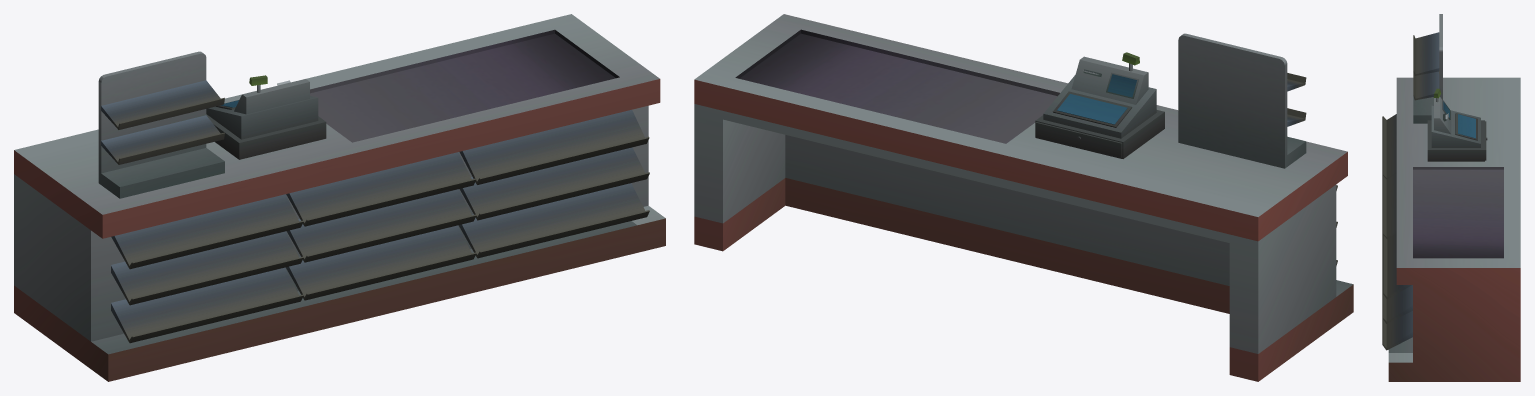
Rendered from check out point new.fbx.
3 renders of one model, left to right at view 1: azimuth 30°, elevation 25°; view 2: azimuth 150°, elevation 25°; view 3: azimuth 270°, elevation 25°, orthographic. The views are drawn at different scales.
Visible parts, largest first — view 1: polySurface104, polySurface56, polySurface106, polySurface68, polySurface50, polySurface51; view 2: polySurface104, polySurface106, polySurface68, polySurface71, polySurface70, polySurface5; view 3: polySurface104, polySurface56, polySurface68, polySurface51, polySurface106, polySurface50, polySurface70, polySurface67.
Boxes of the visible parts, x1,y1,x2,y2 form: polySurface104: [14, 14, 665, 381]; polySurface56: [111, 109, 649, 343]; polySurface106: [98, 51, 224, 198]; polySurface68: [206, 79, 326, 159]; polySurface50: [101, 115, 224, 164]; polySurface51: [101, 80, 224, 129]; polySurface104: [694, 14, 1353, 381]; polySurface106: [1178, 33, 1306, 168]; polySurface68: [1035, 56, 1164, 158]; polySurface71: [1035, 122, 1122, 158]; polySurface70: [1057, 94, 1127, 124]; polySurface5: [1106, 72, 1138, 98]; polySurface104: [1388, 77, 1520, 381]; polySurface56: [1382, 114, 1412, 350]; polySurface68: [1427, 97, 1484, 161]; polySurface51: [1413, 32, 1439, 75]; polySurface106: [1413, 14, 1442, 123]; polySurface50: [1413, 71, 1439, 100]; polySurface70: [1458, 114, 1475, 138]; polySurface67: [1455, 113, 1477, 140].
Bounding box in the file's own units: 319 × 148 × 97.82.
